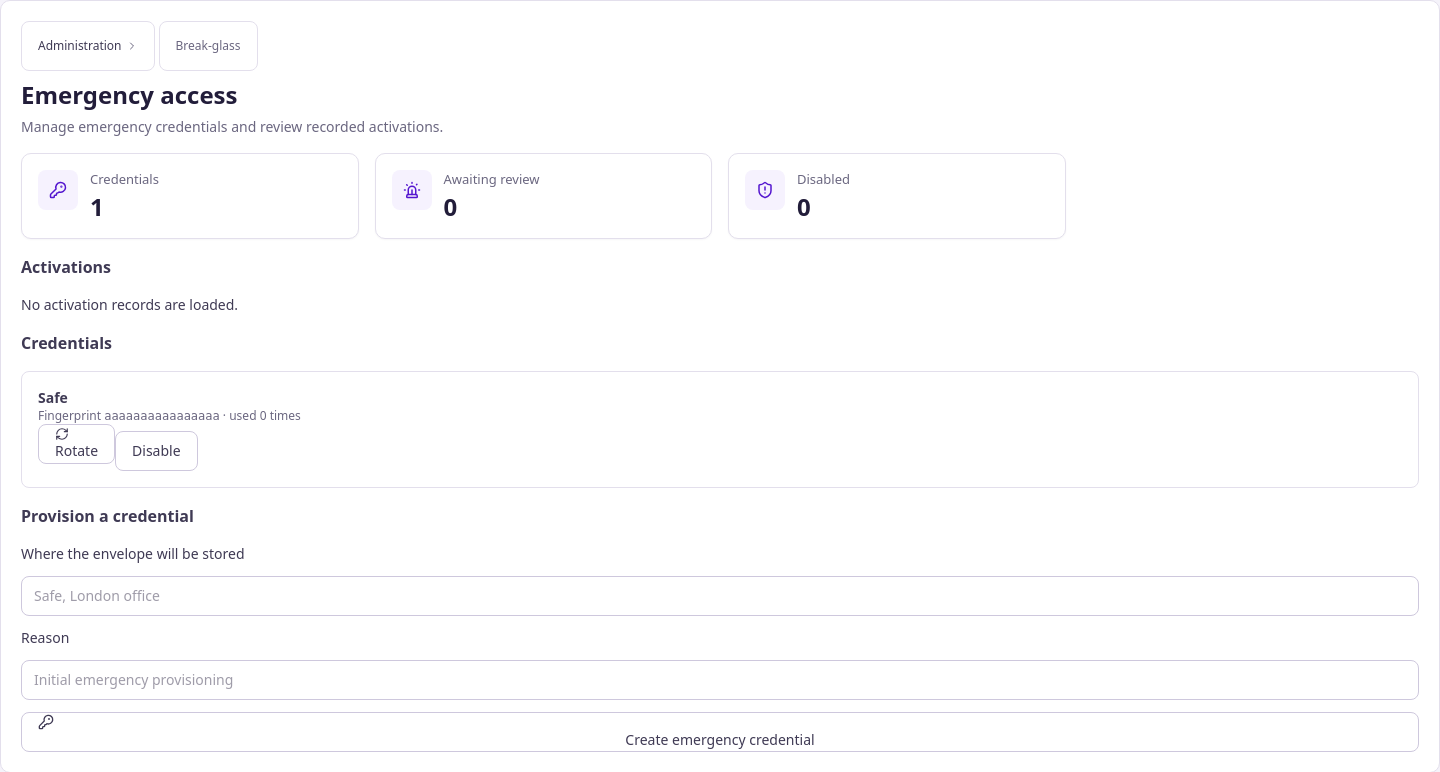
it: disabling emergency access requires a reason and sends the boolean unchanged
Click the button "Disable" at [156, 451], box [115,431,198,471]
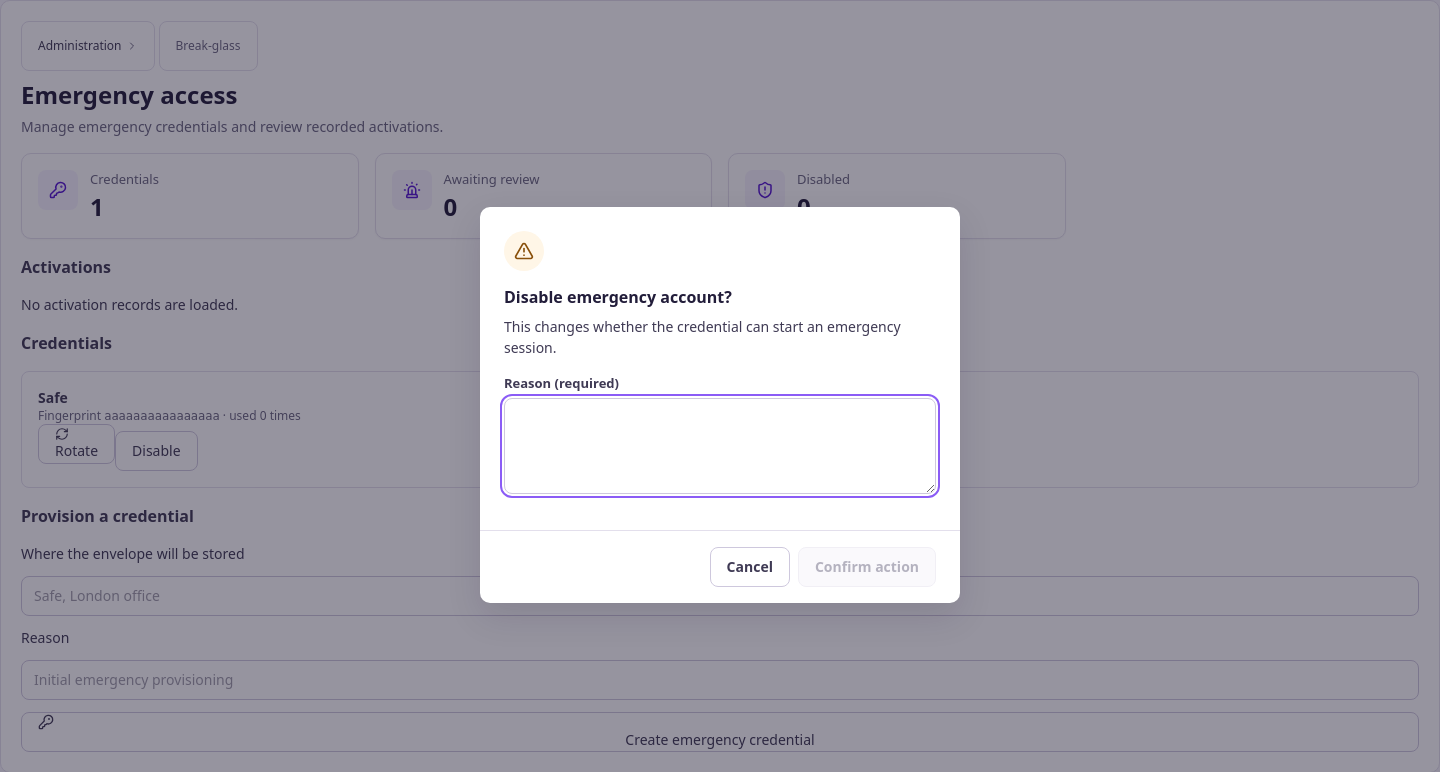
Type "Credential retired" into the text box at [720, 446], box [504,398,936,494]
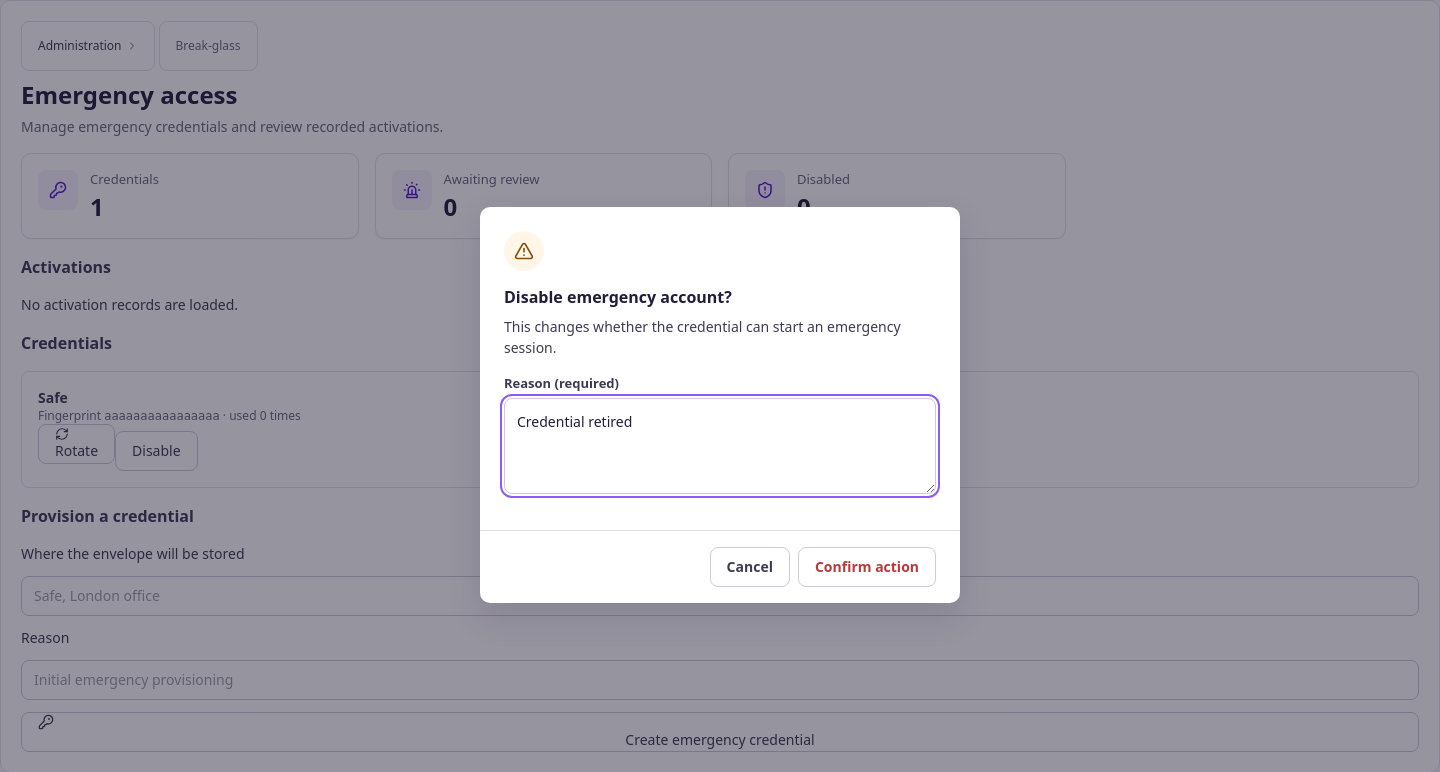
Click the button "Confirm action" at [867, 567], box [798,547,936,587]
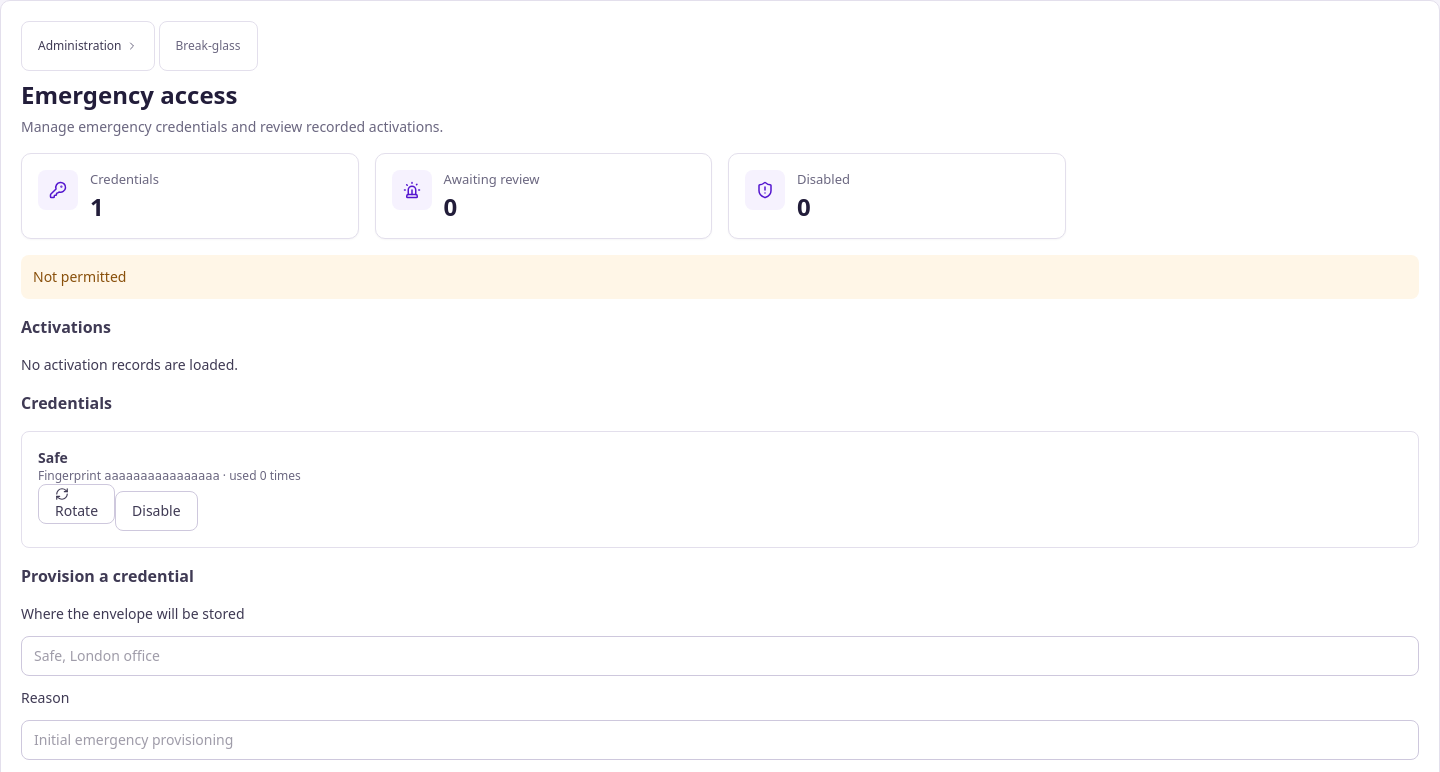
Expected: the text "Not permitted" is shown, [21,255,1419,299]
